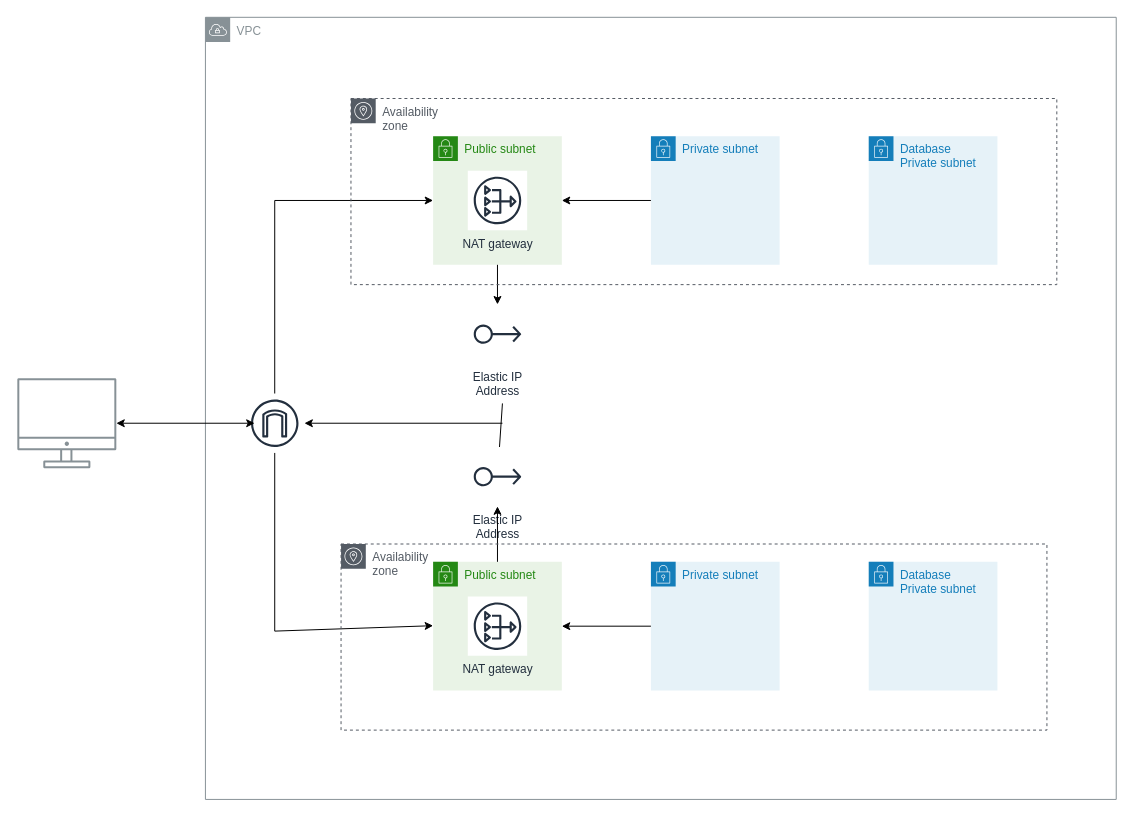
This 1134x817 diagram has some shape labels left out. The shapes that lost their labels are listed below. From the top down, each one's centre as x and y in pixels, then its label:
(x=66, y=423): data lake CLI
(x=274, y=423): Internet gateway
